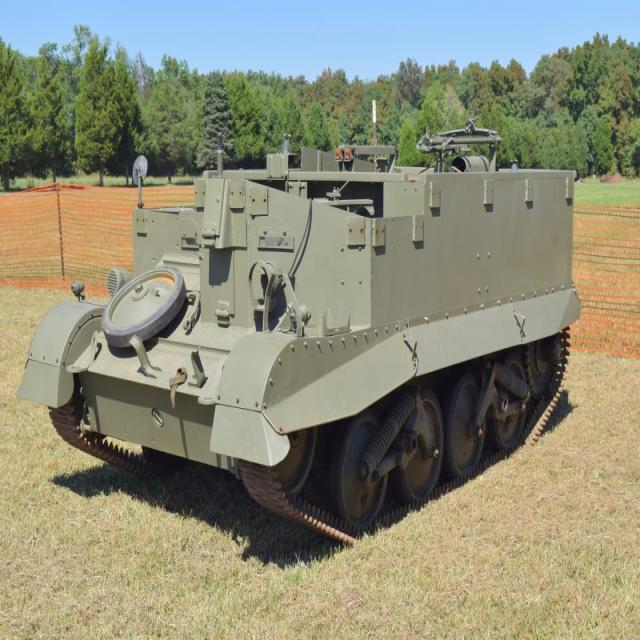Tanks: (16, 102, 604, 560)
